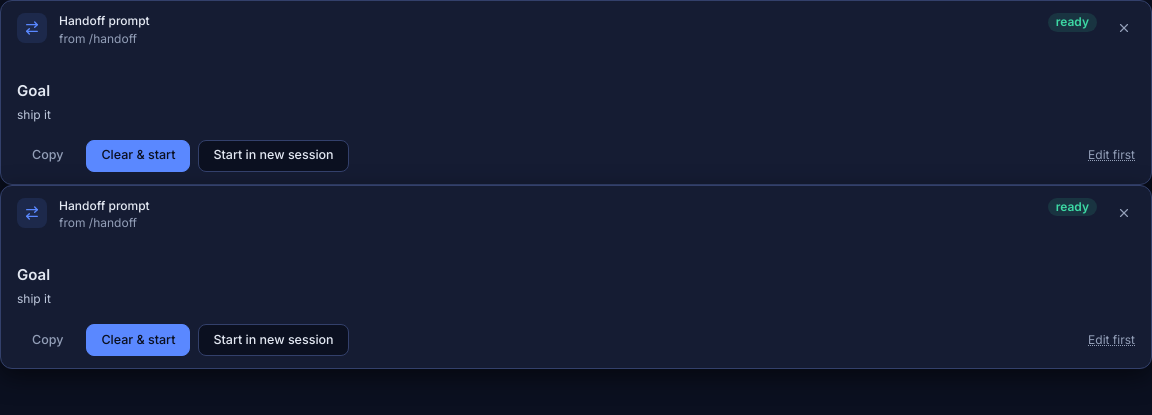
Test: HandoffCardView › dismiss › a refusal keeps the card and says why
Click the 2nd button named "Dismiss handoff": (1124,213) [1109,198,1139,228]
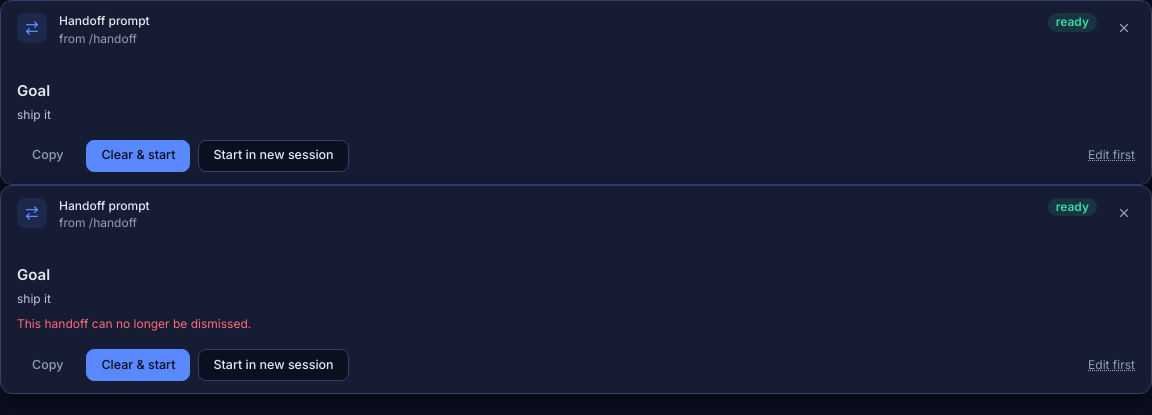
Expected: the 2nd element with test id "handoff-card" is shown, [0,185,1151,394]
Result: the message with test id "handoff-notice" reads "This handoff can no longer be dismissed." at [17,316,251,331]
